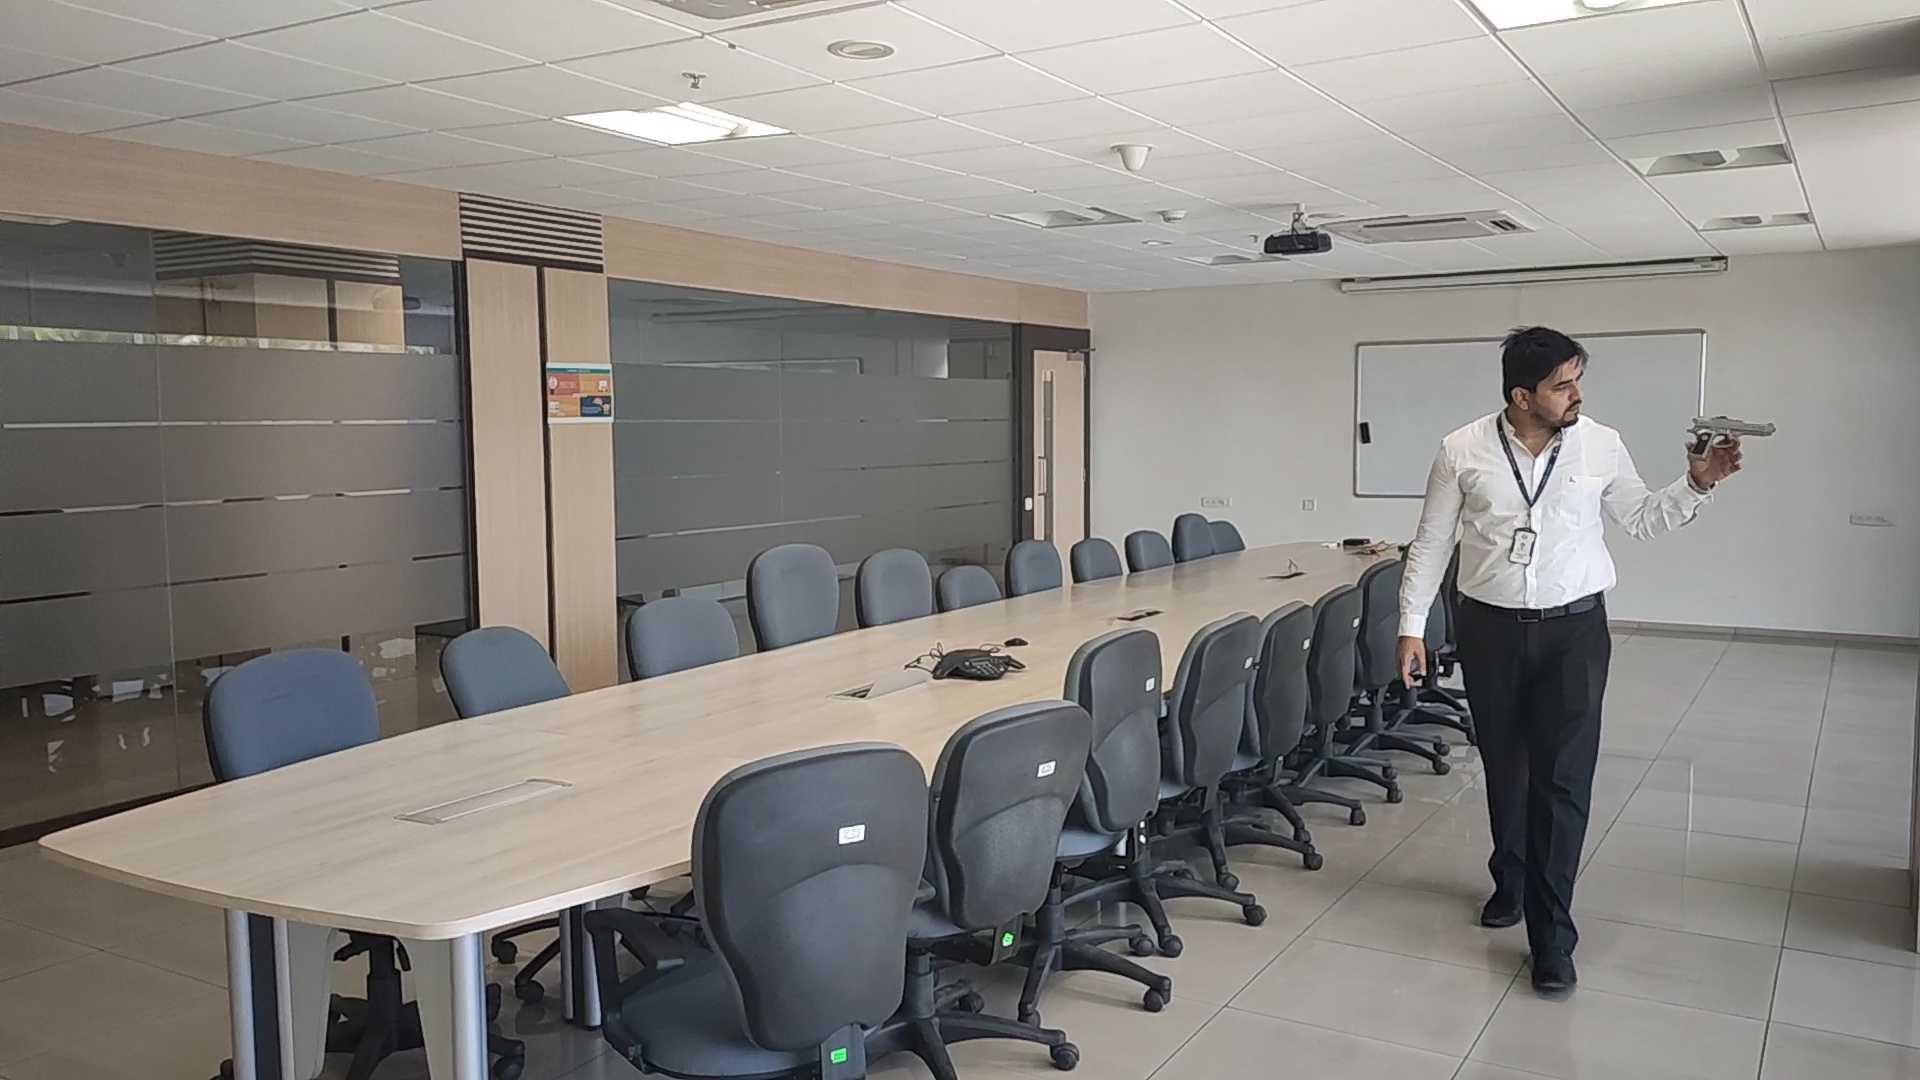gun: (1688, 414, 1779, 447)
